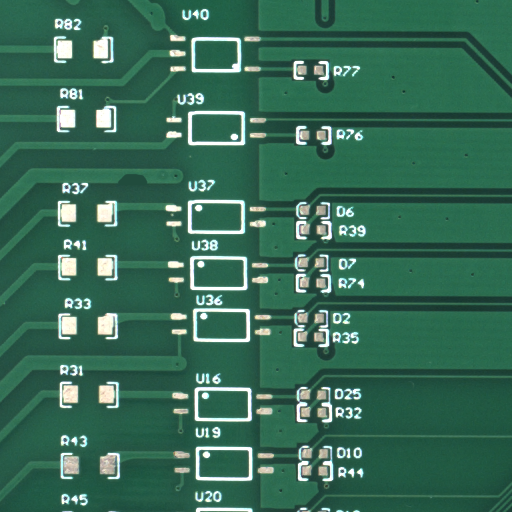Mouse_bite: (133, 179, 169, 196)
